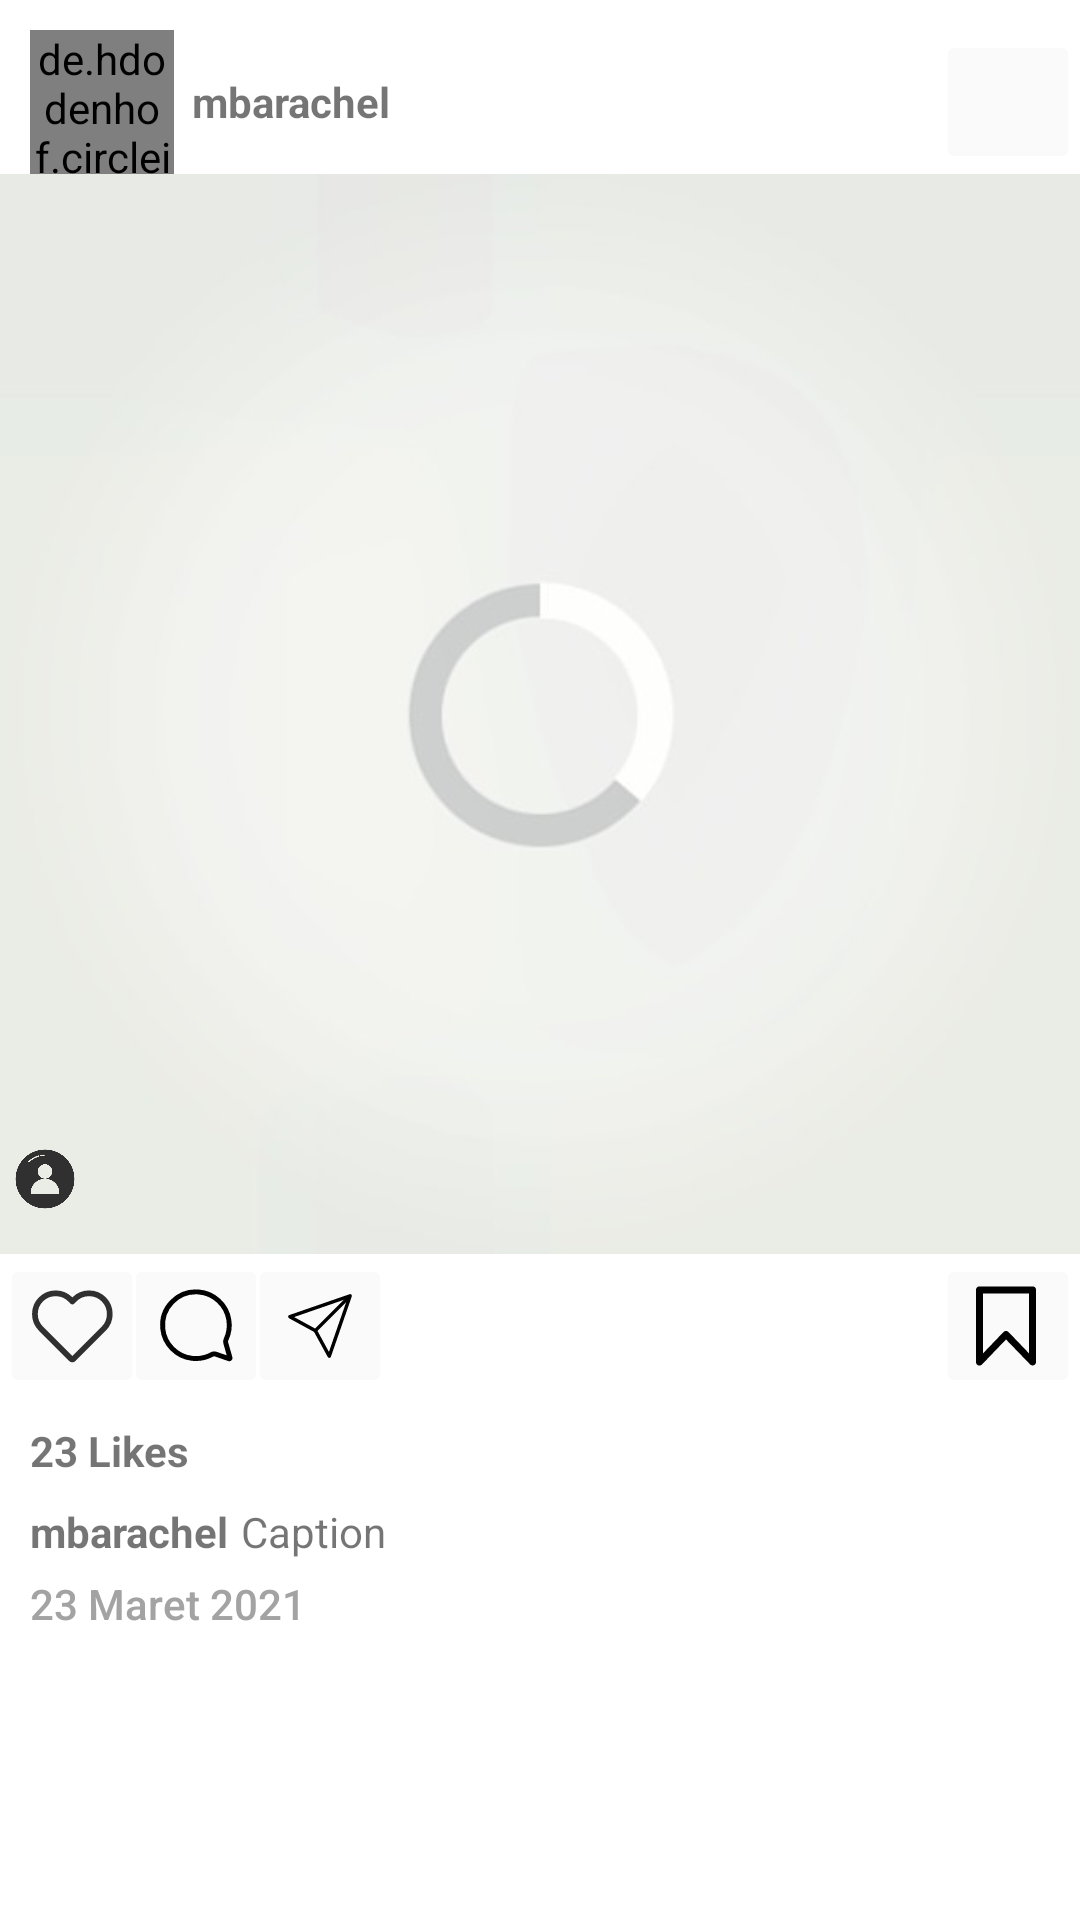

Named icons in this screenshot (1080w x 1920h) and their bounding boxes, (x1, y1, x2, y2):
comment: (160, 1289, 233, 1362)
love: (32, 1290, 113, 1363)
save post: (976, 1286, 1036, 1366)
